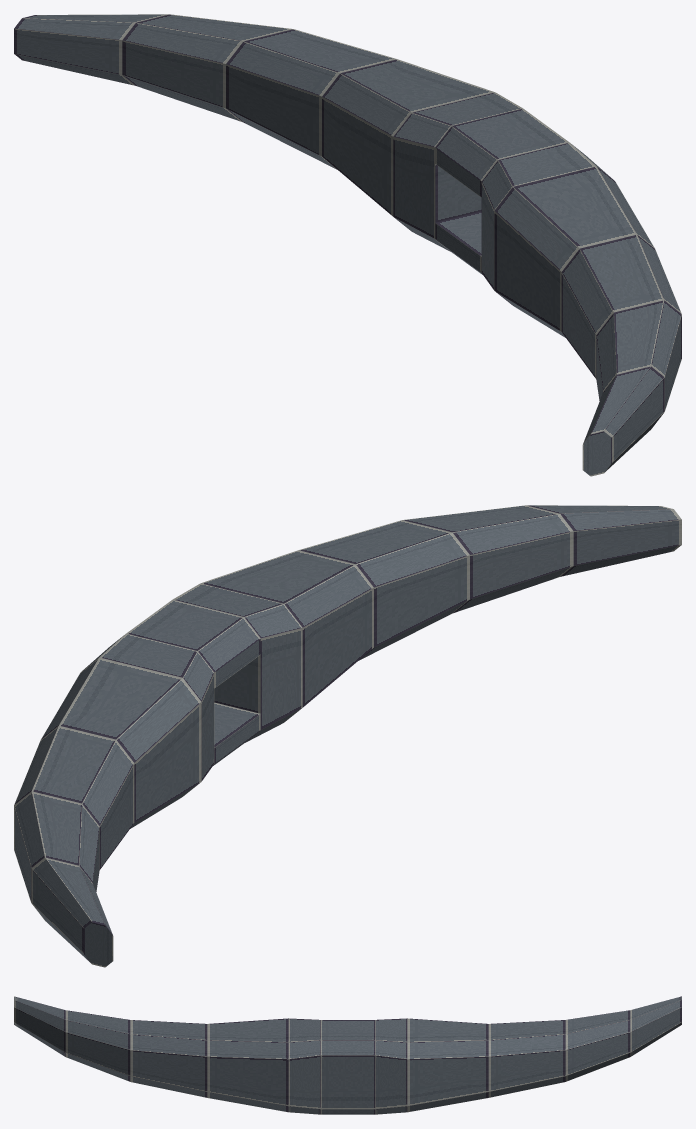
The model's file is bench_pickaxe_3.obj.
The picture shows the model from 3 angles, top to bottom: view 1: azimuth 30°, elevation 25°; view 2: azimuth 150°, elevation 25°; view 3: azimuth 270°, elevation 25°; orthographic projection. The views are drawn at different scales.
Visible parts, largest first — view 1: geometry; view 2: geometry; view 3: geometry.
Boxes of the visible parts, x1=… form: geometry: x1=14, y1=14, x2=681, y2=476; geometry: x1=14, y1=505, x2=681, y2=967; geometry: x1=14, y1=996, x2=681, y2=1114.
Bounding box in the file's own units: 0.2028 × 0.092 × 0.75.
